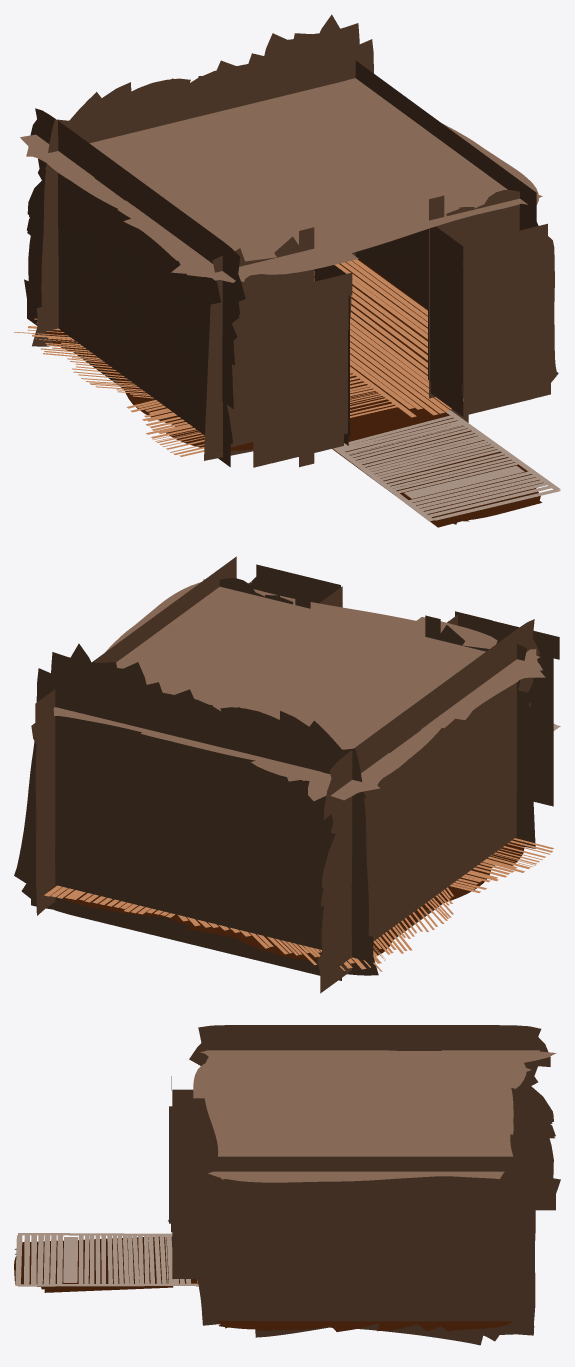
The picture shows the model from 3 angles, top to bottom: view 1: azimuth 30°, elevation 25°; view 2: azimuth 150°, elevation 25°; view 3: azimuth 270°, elevation 25°; orthographic projection. The views are drawn at different scales.
Visible parts, largest first — view 1: Flat_geo; view 2: Flat_geo; view 3: Flat_geo.
Part boxes in pixels (x1,y1,x2,y2): Flat_geo: (14,14,560,527); Flat_geo: (14,556,560,993); Flat_geo: (14,1025,560,1345).
Size of the model in its own units: 4.69 by 3.34 by 6.95.
